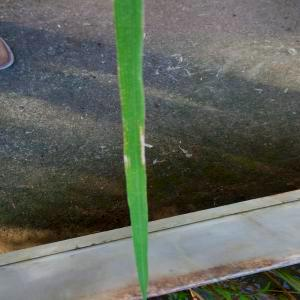2 BacterialBlight: (114, 1, 153, 281)
